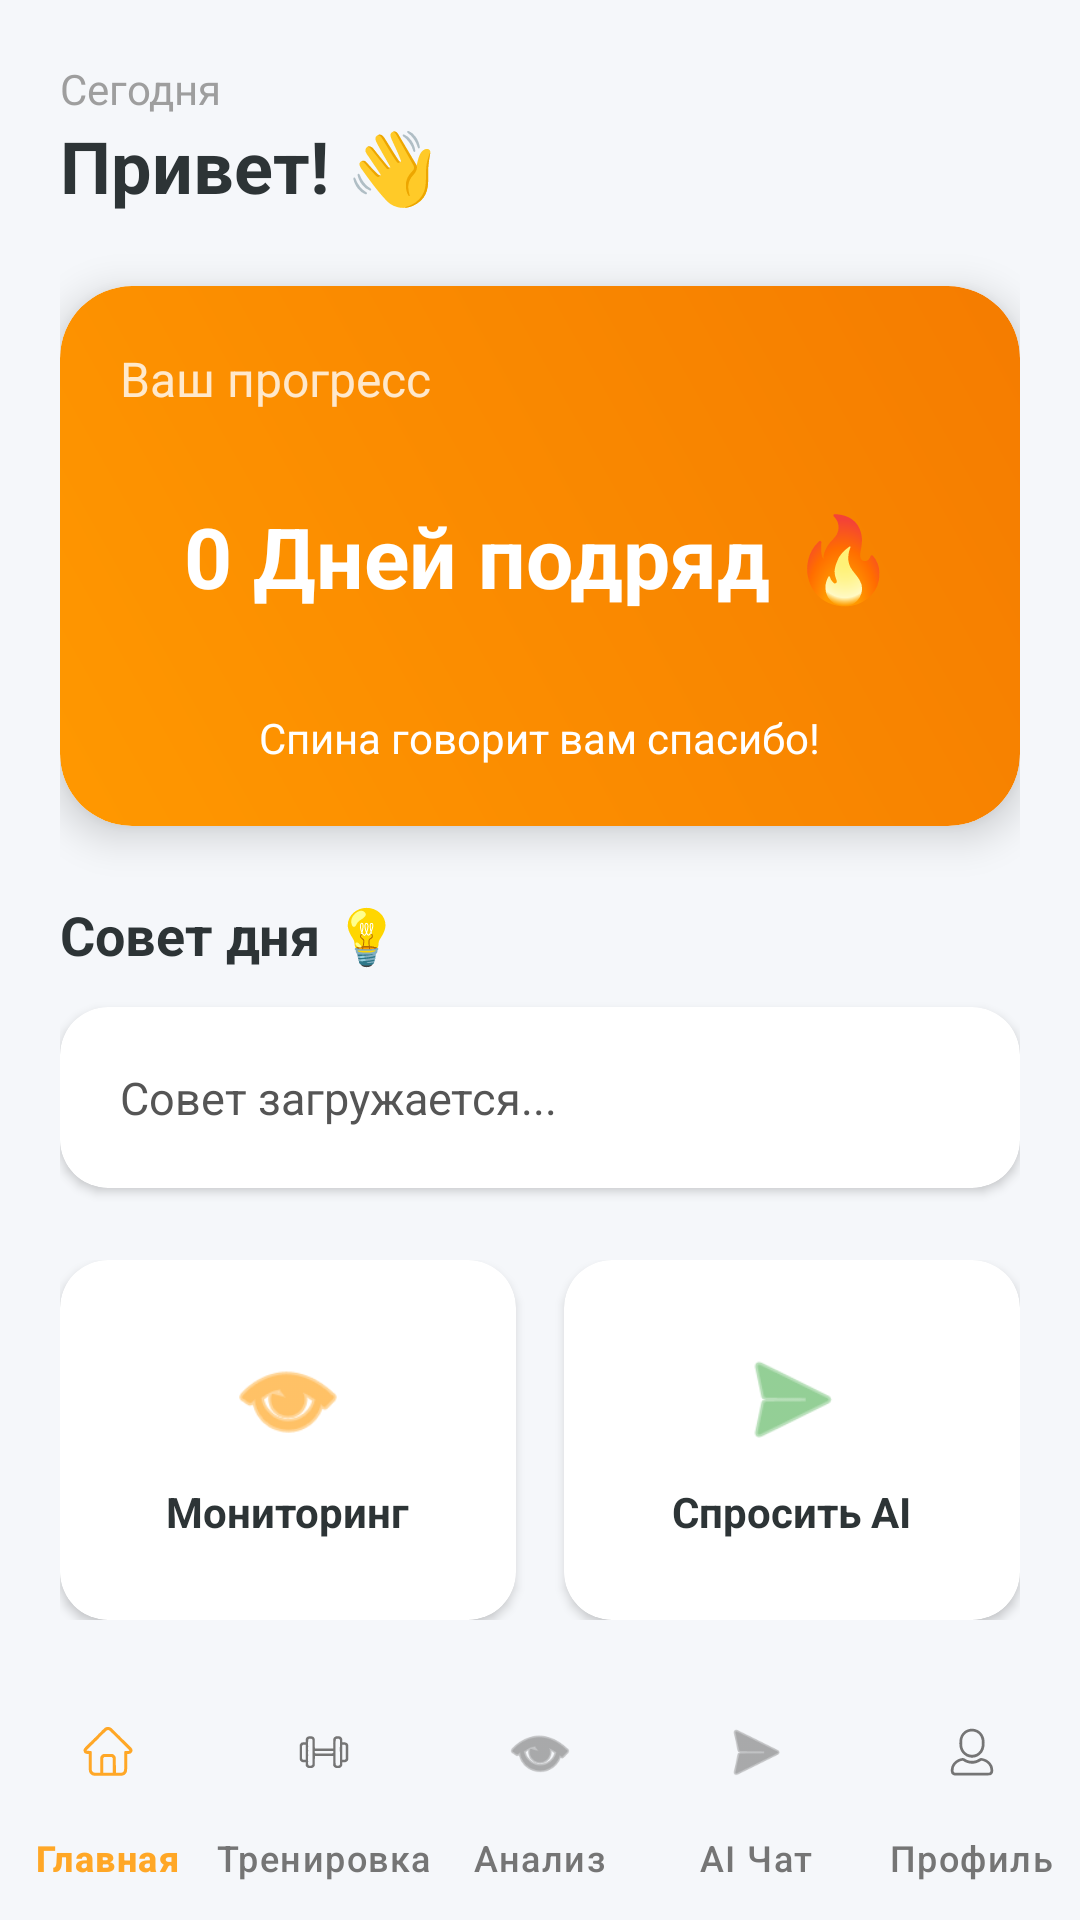

Point at icon controls on the screen. Image size 1080px x 1920px, points as (x=x, y=y).
send: (x=793, y=1399)
view: (x=288, y=1402)
